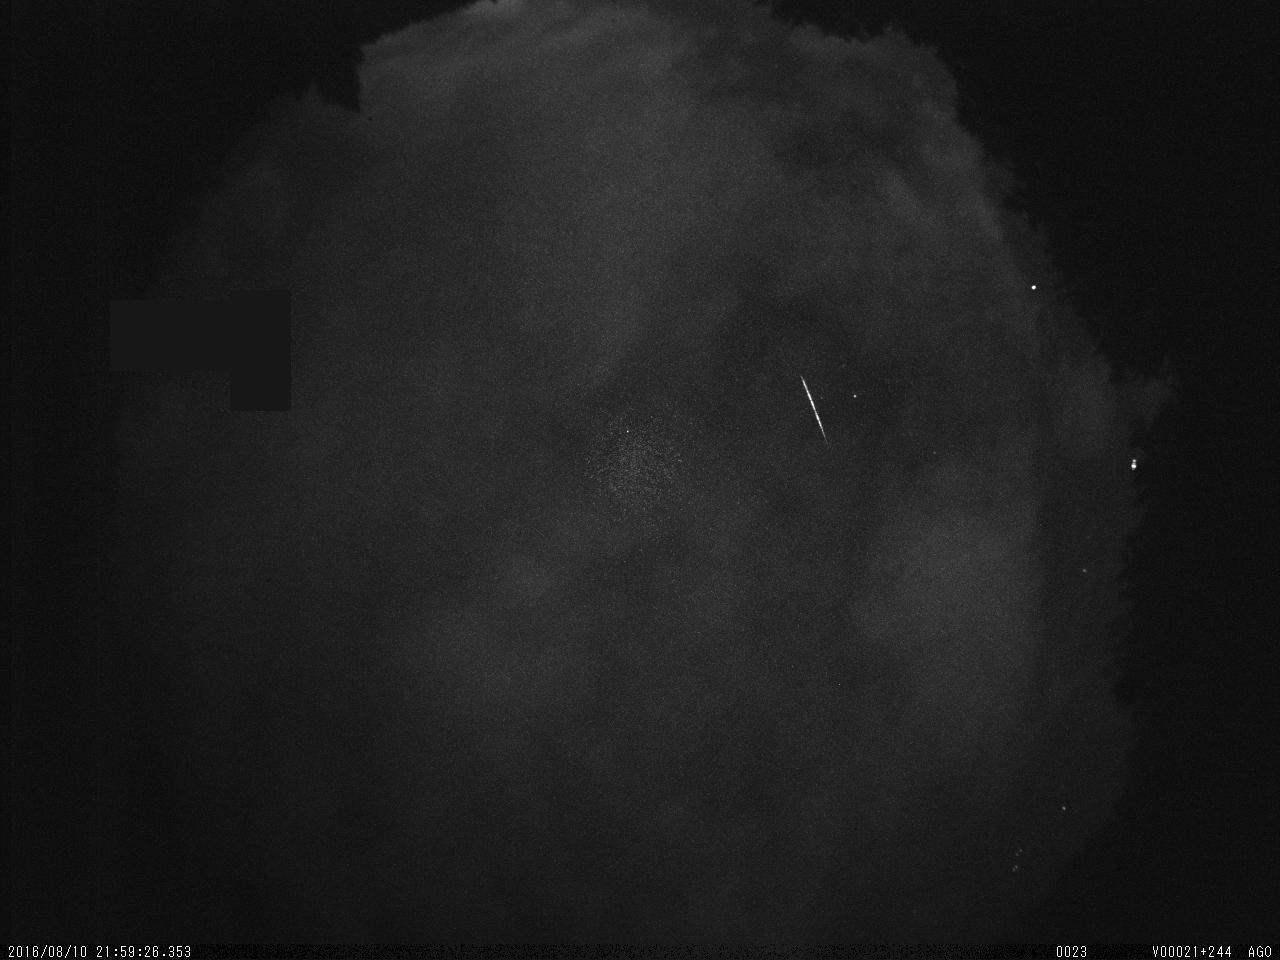meteor: (793, 368, 834, 450)
